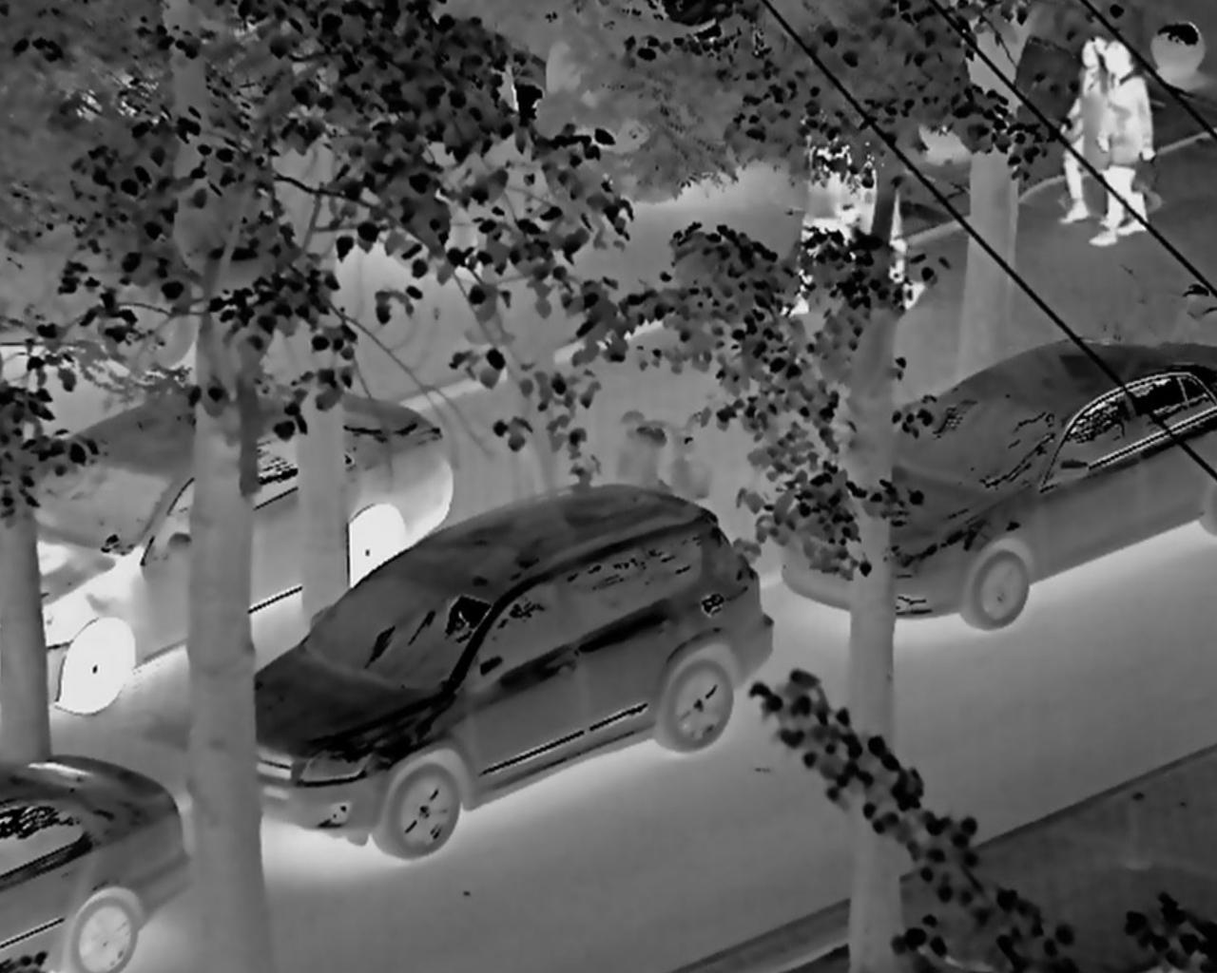person: (777, 95, 871, 307), (1096, 41, 1170, 245), (1068, 22, 1110, 242)
